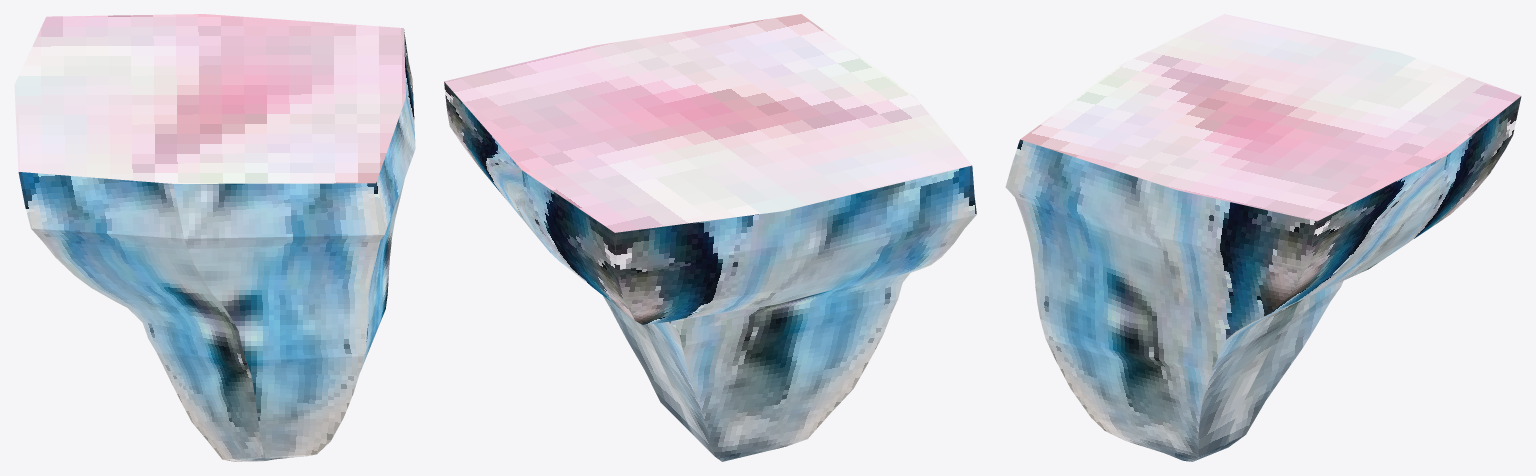
The picture shows the model from 3 angles, left to right: view 1: azimuth 30°, elevation 25°; view 2: azimuth 150°, elevation 25°; view 3: azimuth 270°, elevation 25°; orthographic projection. The views are drawn at different scales.
Parts seen in each view (by area): view 1: SPLICE_3; view 2: SPLICE_3; view 3: SPLICE_3.
Part boxes in pixels (left/top/right/bottom): SPLICE_3: left=14, top=14, right=415, bottom=461; SPLICE_3: left=444, top=14, right=976, bottom=461; SPLICE_3: left=1005, top=14, right=1521, bottom=461.
Bounding box in the file's own units: 1.31 × 0.9576 × 1.34.
1 material, 1 textured.
